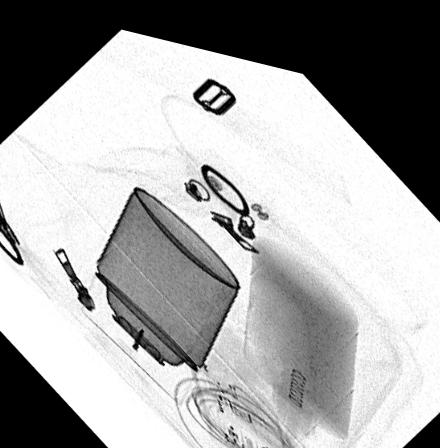Sprayer: (80, 181, 239, 398)
